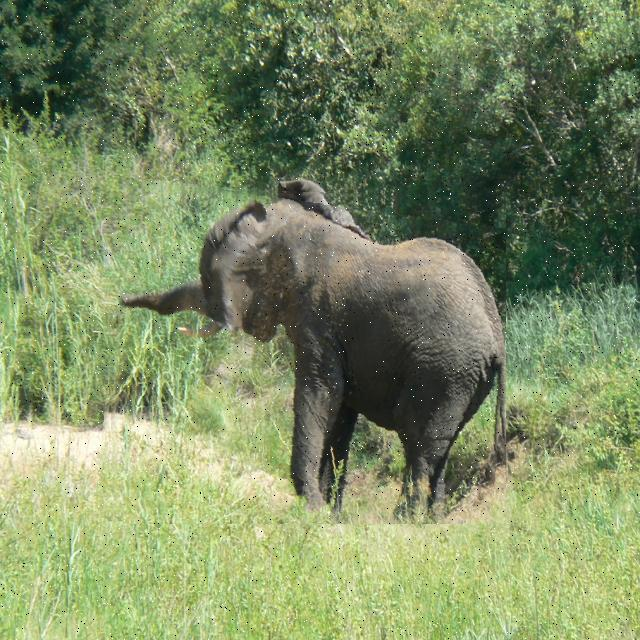elephant: (104, 186, 506, 524)
